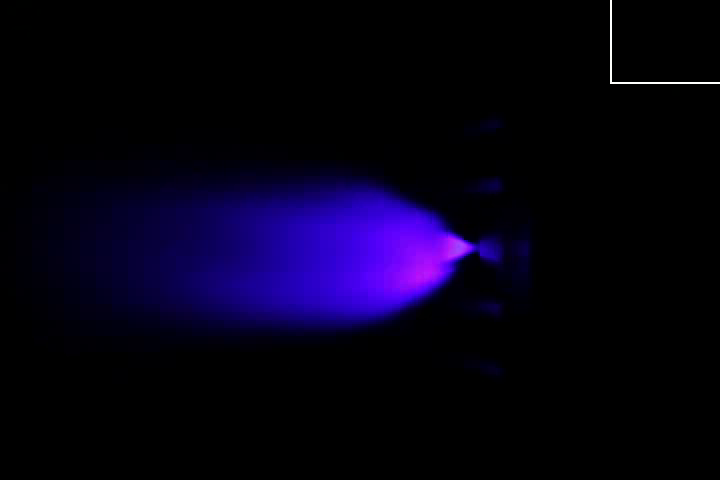burner cap: (480, 234, 502, 263)
stable: (381, 217, 480, 309)
